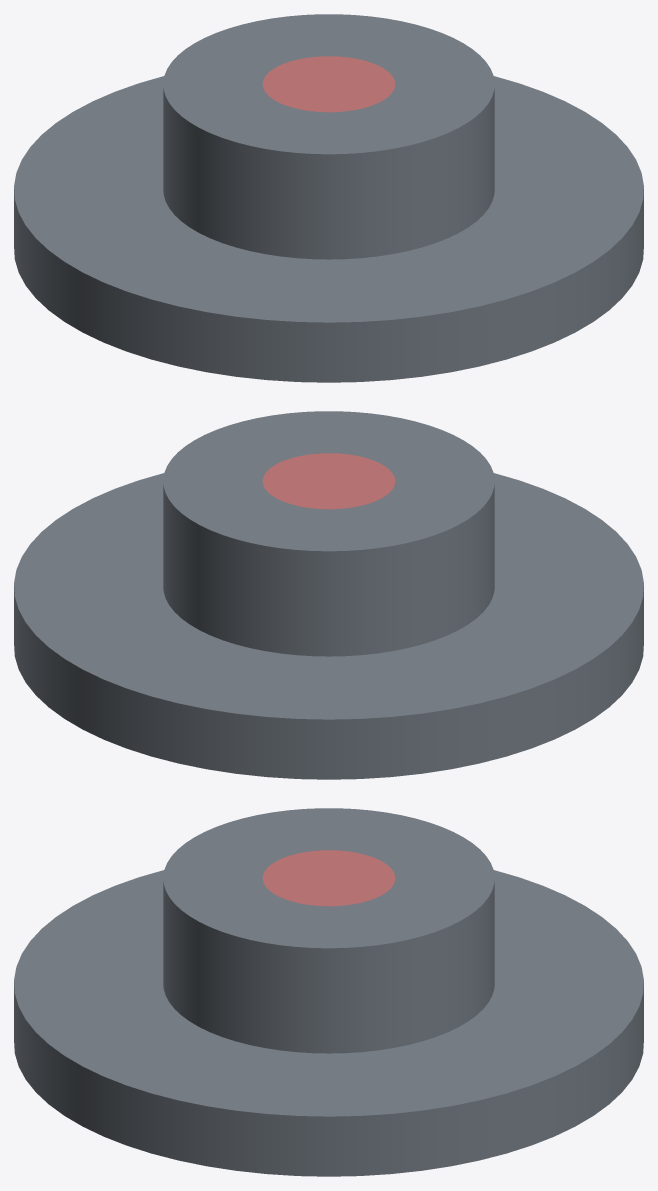
File: step_03.glb
3 renders of one model, top to bottom at view 1: azimuth 30°, elevation 25°; view 2: azimuth 150°, elevation 25°; view 3: azimuth 270°, elevation 25°, orthographic.
Visible parts, largest first — view 1: part__pivot pedestal, removed__pivot pedestal; view 2: part__pivot pedestal, removed__pivot pedestal; view 3: part__pivot pedestal, removed__pivot pedestal.
Part boxes in pixels (<box>): part__pivot pedestal: <box>14,14,643,382</box>; removed__pivot pedestal: <box>262,56,395,112</box>; part__pivot pedestal: <box>14,411,643,779</box>; removed__pivot pedestal: <box>262,453,395,509</box>; part__pivot pedestal: <box>14,808,643,1176</box>; removed__pivot pedestal: <box>262,850,395,906</box>.
Bounding box in the file's own units: 190 × 55 × 190.
